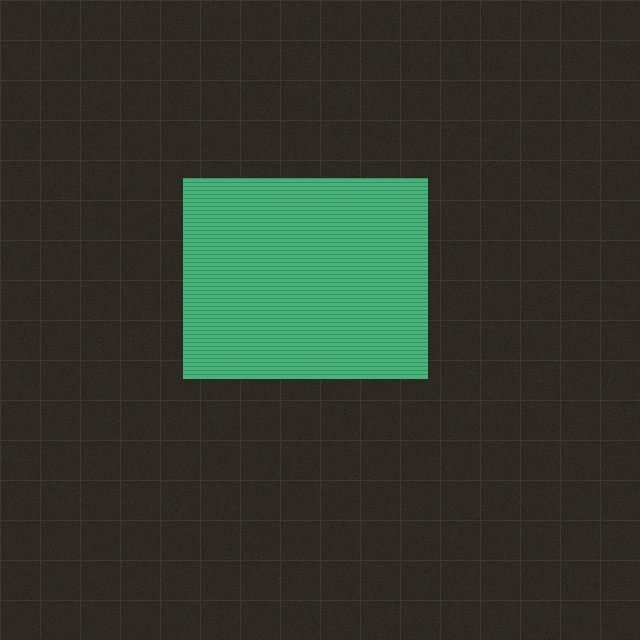normal: (183, 178, 427, 378)
